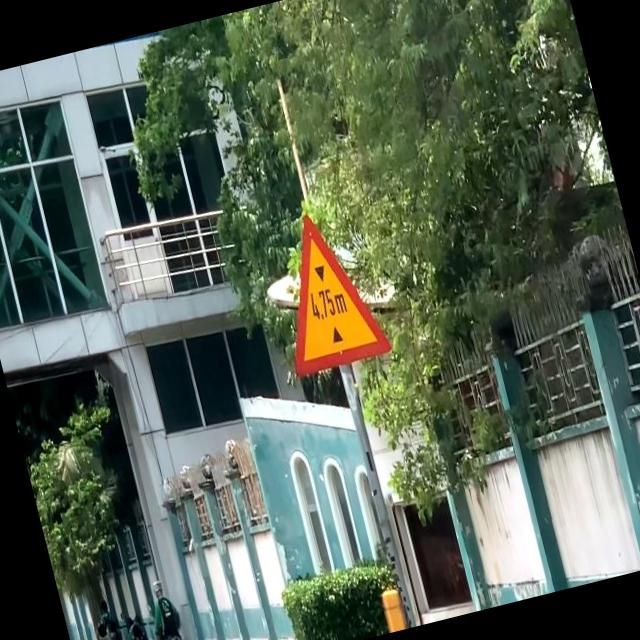W-239b: (259, 200, 394, 376)
